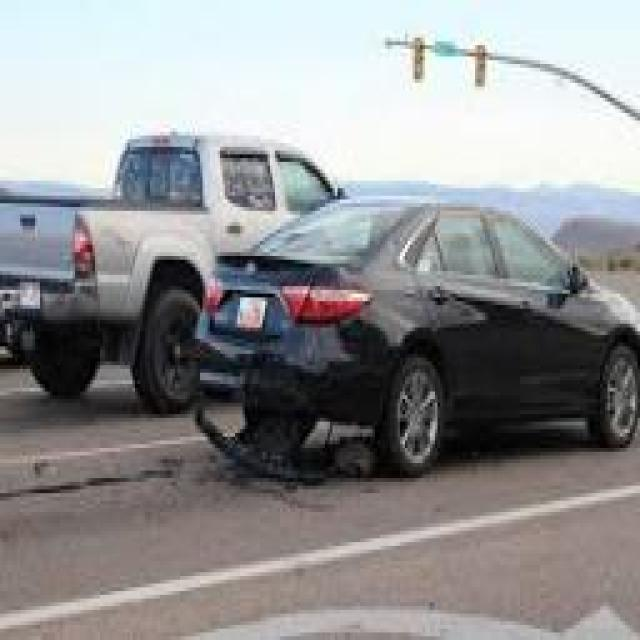replaceable: (203, 362, 353, 424)
